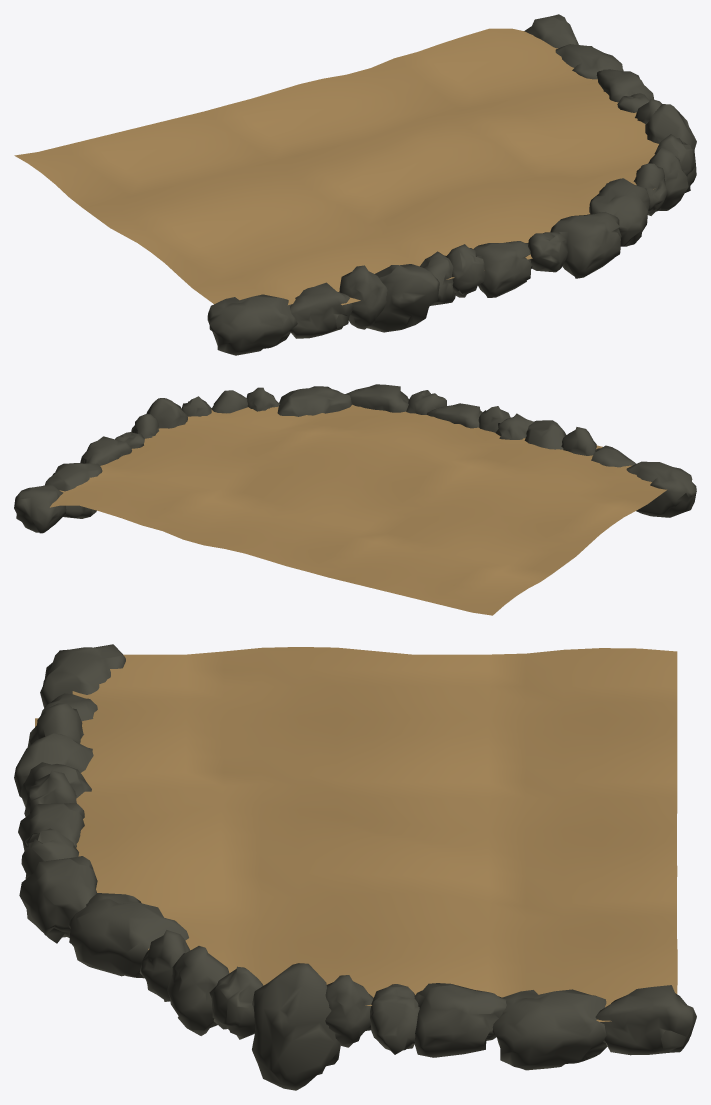
The model's file is medium_ground_02.fbx.
The picture shows the model from 3 angles, top to bottom: view 1: azimuth 30°, elevation 25°; view 2: azimuth 150°, elevation 25°; view 3: azimuth 270°, elevation 25°; orthographic projection. The views are drawn at different scales.
Parts seen in each view (by area): view 1: polySurface_medium_ground_02; view 2: polySurface_medium_ground_02; view 3: polySurface_medium_ground_02.
Boxes of the visible parts, box(x1,y1,x2,y2) form: polySurface_medium_ground_02: box(14, 14, 696, 355); polySurface_medium_ground_02: box(14, 384, 696, 615); polySurface_medium_ground_02: box(14, 644, 696, 1090).
Bounding box in the file's own units: 149 × 22.3 × 112.
